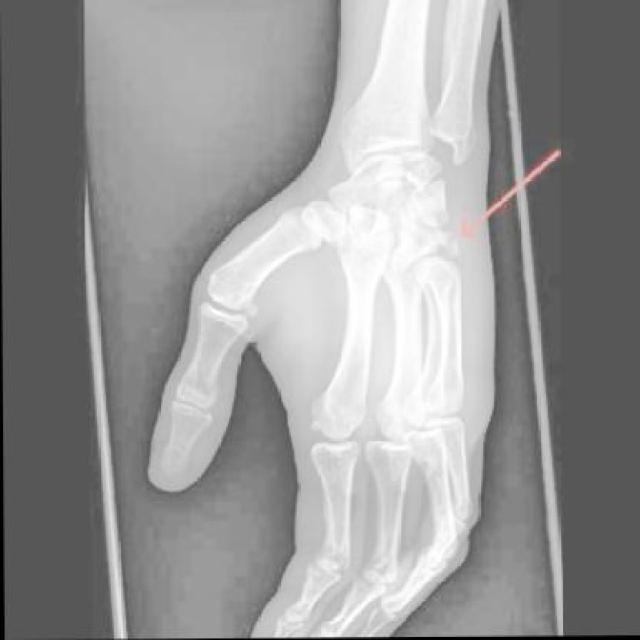Fracture: (434, 232, 457, 260)
